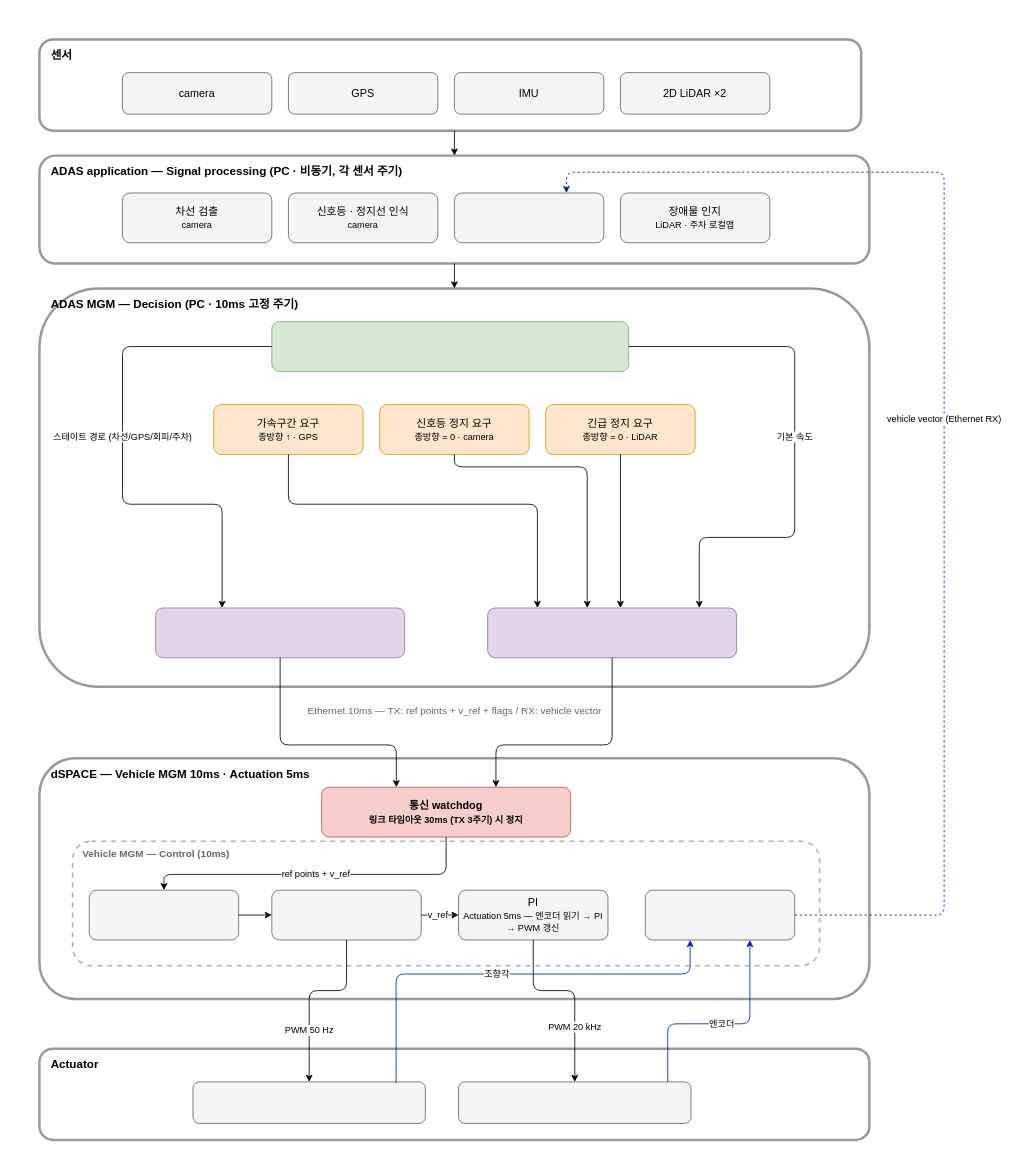
This 1033x1174 diagram has some shape labels left out. Here are the shapes that lost their labels. From the top down, the centre of each, then its label:
At pixel 529 217: "GPS · IMU 융합 위치 · 헤딩".
At pixel 450 346: "주행 모드 스테이트 머신 lane ↔ waypoint ↔ avoid ↔ parking · 각 스테이트 내 우선권 결정".
At pixel 280 632: "ref points 조립 스테이트 경로 → ref points 변환 · 전환 연속 처리".
At pixel 612 632: "종방향 병합 스테이트 우선권 표 적용 → 최종 v_ref".
At pixel 163 914: "궤적 생성 quintic · 타당성 검사".
At pixel 346 914: "MPC 횡 · 종 통합 → str_ref, v_ref".
At pixel 719 914: "상태 추정 kinematic bicycle model".
At pixel 308 1102: "서보 모터 — 조향각 반환".
At pixel 574 1102: "구동 모터 — 엔코더 반환".
